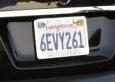1: (78, 31, 84, 48)
2: (65, 32, 72, 49)
6: (40, 33, 47, 51), (72, 31, 78, 48)
E: (45, 33, 53, 51)
V: (52, 32, 59, 50)
Y: (58, 32, 65, 49)
